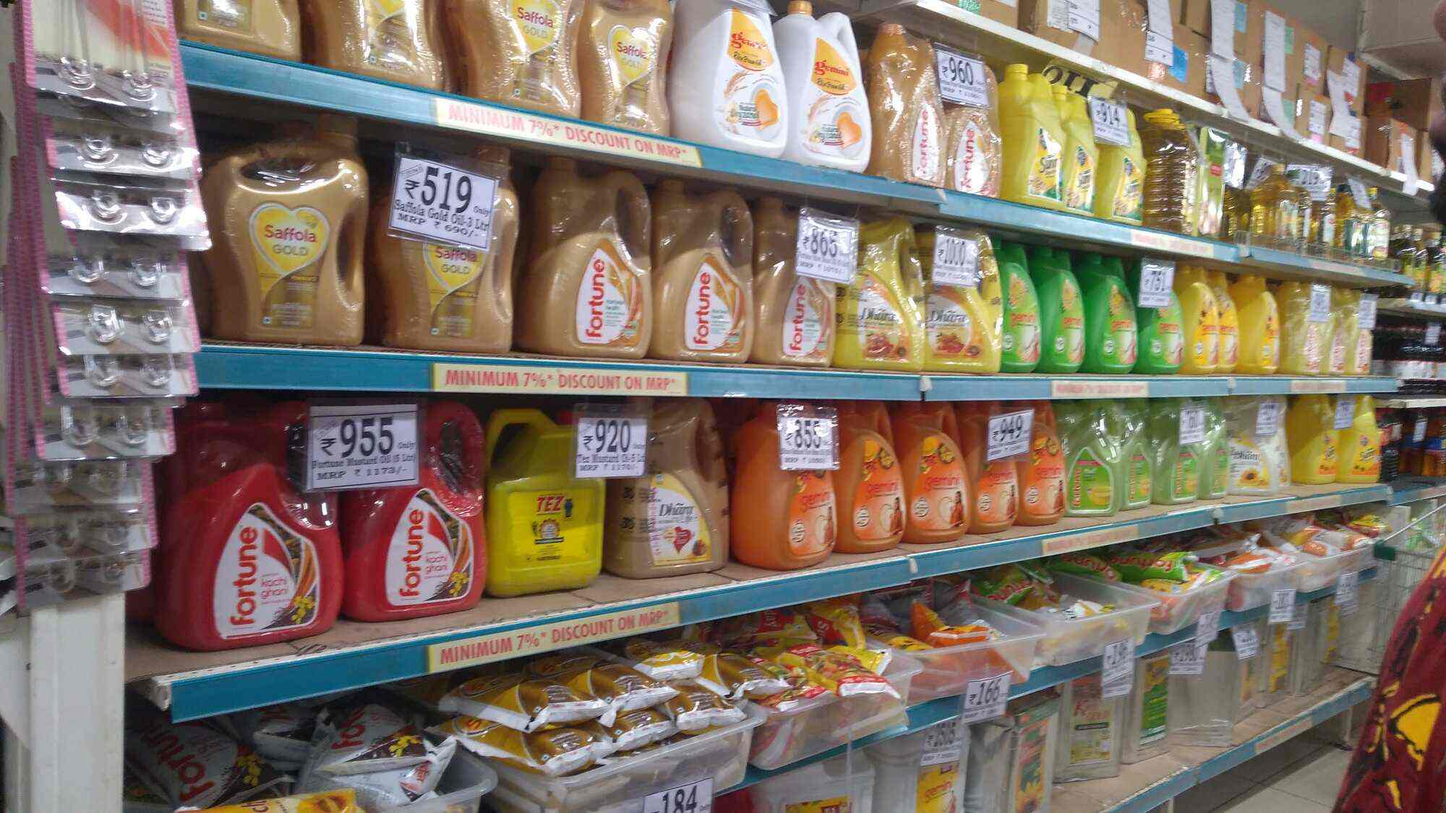saffola: (176, 0, 672, 134), (364, 186, 520, 354)
